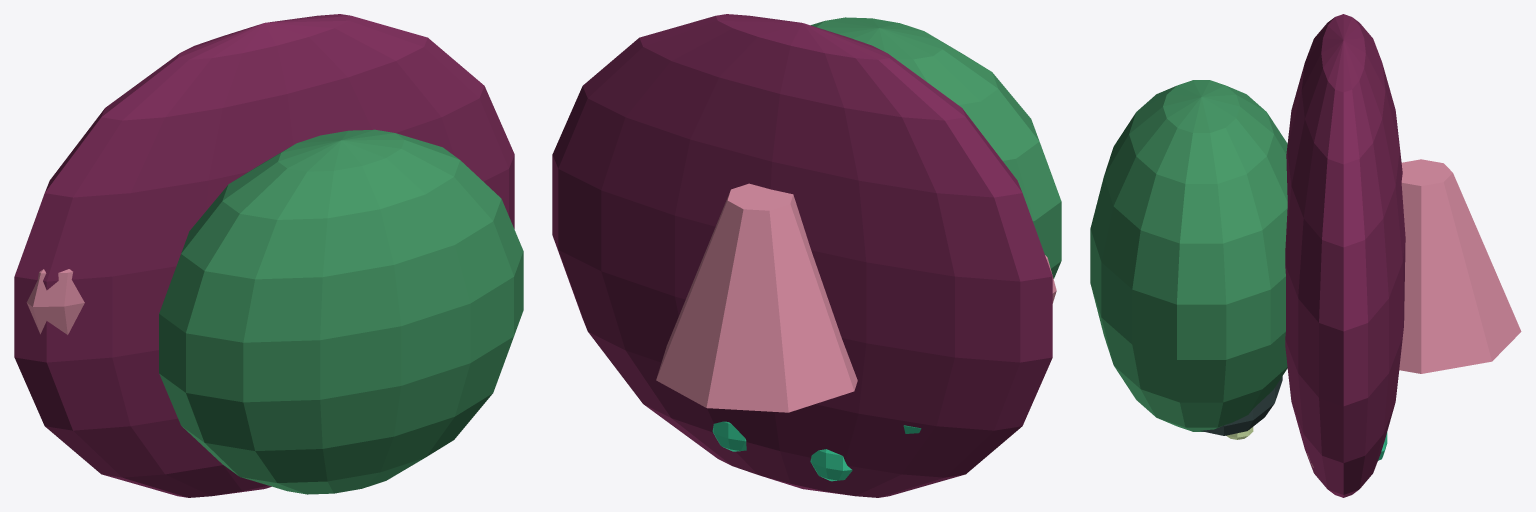
The model's file is RoyalGlowcap.glb.
3 renders of one model, left to right at view 1: azimuth 30°, elevation 25°; view 2: azimuth 150°, elevation 25°; view 3: azimuth 270°, elevation 25°, orthographic. The views are drawn at different scales.
Parts seen in each view (by area): view 1: Body, CrownCap, RoyalNode1; view 2: CrownCap, CrownStem, Body, CrownSpot2, CrownSpot3; view 3: Body, CrownCap, CrownStem, Face.
Part boxes in pixels (<box>): Body: <box>159,129,523,494</box>; CrownCap: <box>14,14,514,497</box>; RoyalNode1: <box>26,269,84,334</box>; CrownCap: <box>552,14,1052,497</box>; CrownStem: <box>656,183,857,412</box>; Body: <box>811,17,1061,278</box>; CrownSpot2: <box>810,449,852,481</box>; CrownSpot3: <box>712,421,746,451</box>; Body: <box>1090,80,1287,431</box>; CrownCap: <box>1285,14,1405,497</box>; CrownStem: <box>1399,159,1521,373</box>; Face: <box>1200,376,1282,435</box>.
Bounding box in the file's own units: 6.4 × 5.7 × 5.16.
Materials: 1 (1 with a texture image).
